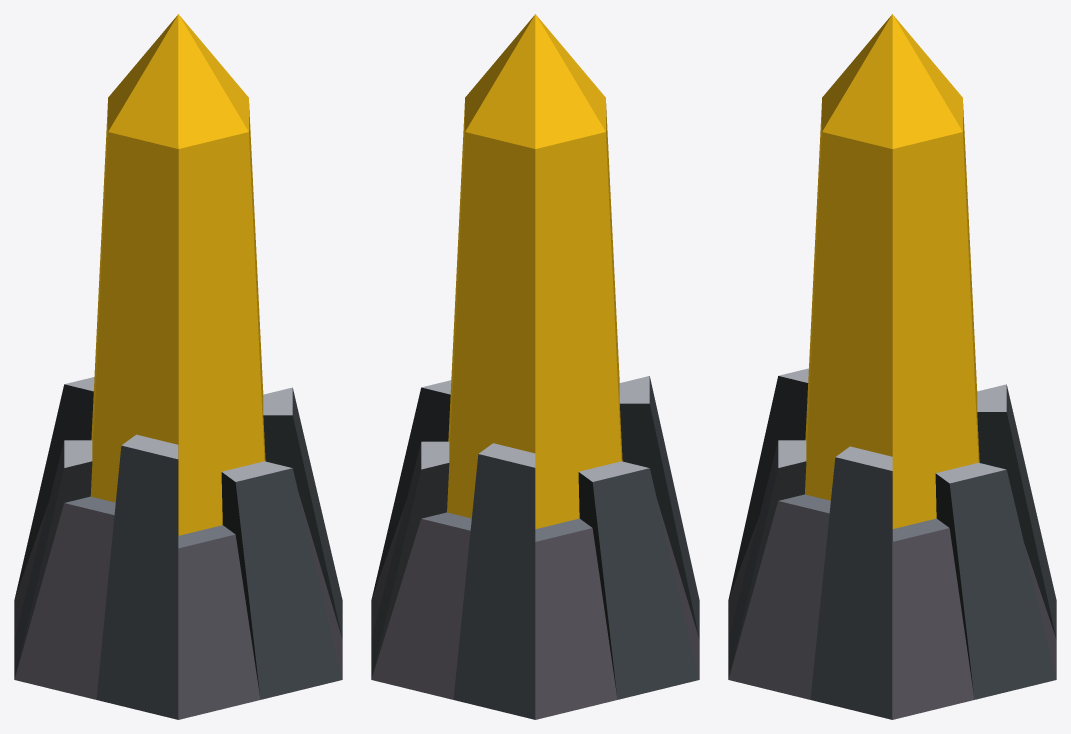
Rendered from TB_Str_Crystal_C.FBX.
The picture shows the model from 3 angles, left to right: view 1: azimuth 30°, elevation 25°; view 2: azimuth 150°, elevation 25°; view 3: azimuth 270°, elevation 25°; orthographic projection.
Parts seen in each view (by area): view 1: TB_Str_Crystal_C; view 2: TB_Str_Crystal_C; view 3: TB_Str_Crystal_C.
Boxes of the visible parts, left/top/right/bottom form: TB_Str_Crystal_C: left=14, top=14, right=342, bottom=719; TB_Str_Crystal_C: left=371, top=14, right=699, bottom=719; TB_Str_Crystal_C: left=728, top=14, right=1056, bottom=719.
Size of the model in its own units: 2.24 by 4.09 by 1.94.
